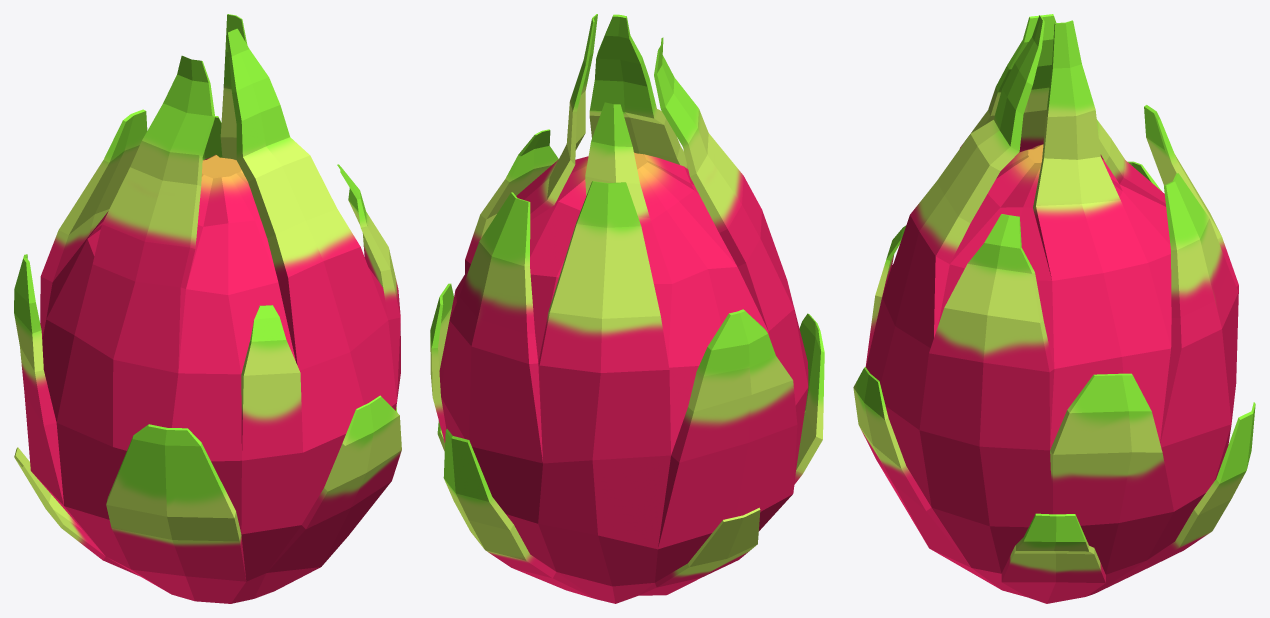
Rendered from Dragonfruit.fbx.
The picture shows the model from 3 angles, left to right: view 1: azimuth 30°, elevation 25°; view 2: azimuth 150°, elevation 25°; view 3: azimuth 270°, elevation 25°; orthographic projection.
Visible parts, largest first — view 1: Sphere; view 2: Sphere; view 3: Sphere.
Boxes of the visible parts, x1,y1,x2,y2 form: Sphere: (14, 14, 401, 603); Sphere: (430, 14, 824, 603); Sphere: (853, 14, 1255, 603).
Bounding box in the file's own units: 194 × 298 × 191.
